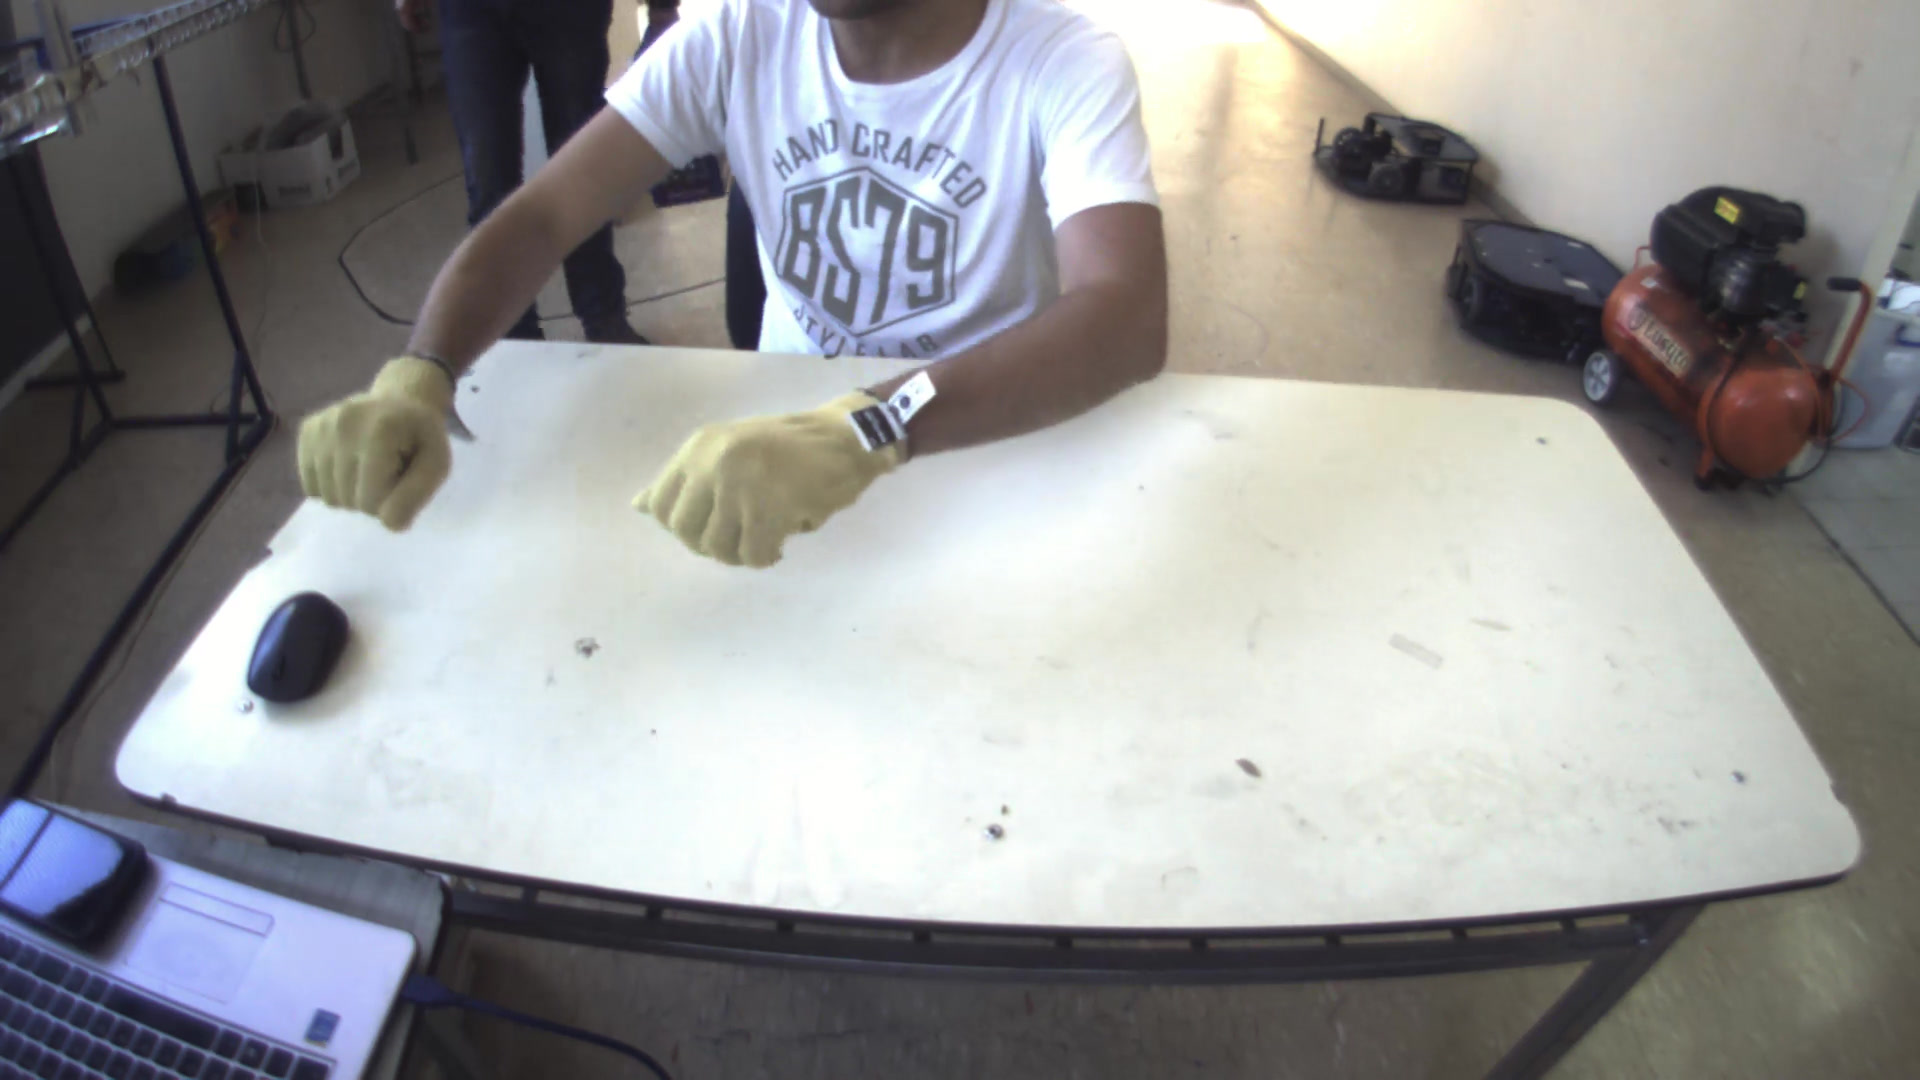hand: (613, 378, 920, 575), (280, 339, 476, 533)
